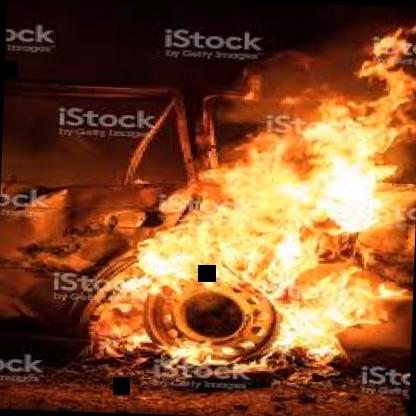fire: (82, 104, 380, 366)
